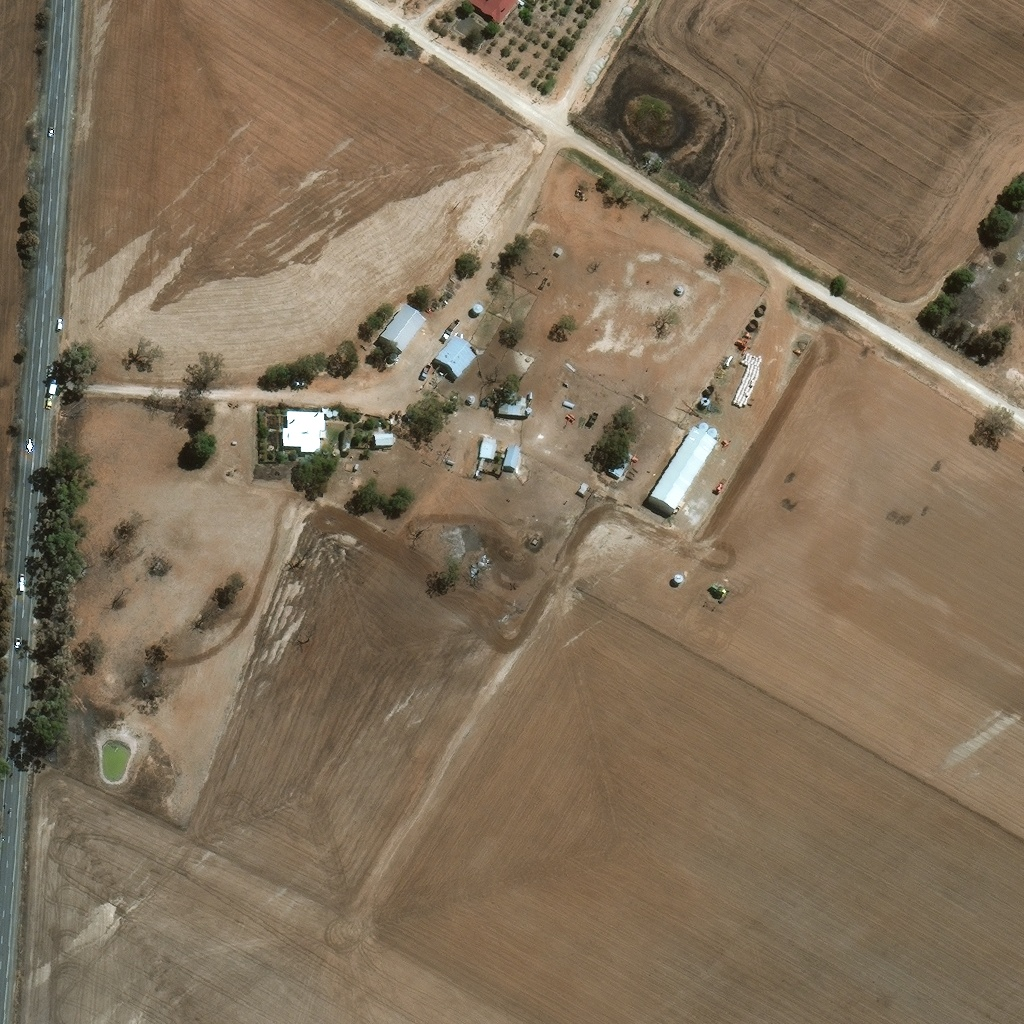0 no-damage: (650, 428, 717, 511), (380, 305, 426, 354), (282, 410, 328, 452), (436, 334, 478, 377), (502, 444, 522, 466), (481, 436, 497, 456), (342, 429, 352, 453), (374, 432, 393, 444), (578, 479, 590, 492), (472, 303, 483, 314), (323, 404, 333, 415), (564, 396, 576, 405), (707, 428, 717, 438), (698, 423, 709, 432), (701, 396, 710, 405), (333, 407, 340, 415), (676, 284, 683, 291), (333, 448, 340, 454)
1 minor-damage: (481, 392, 488, 401)
2 major-damage: (498, 395, 533, 415)
4 un-classified: (450, 388, 456, 395), (520, 510, 527, 516)
